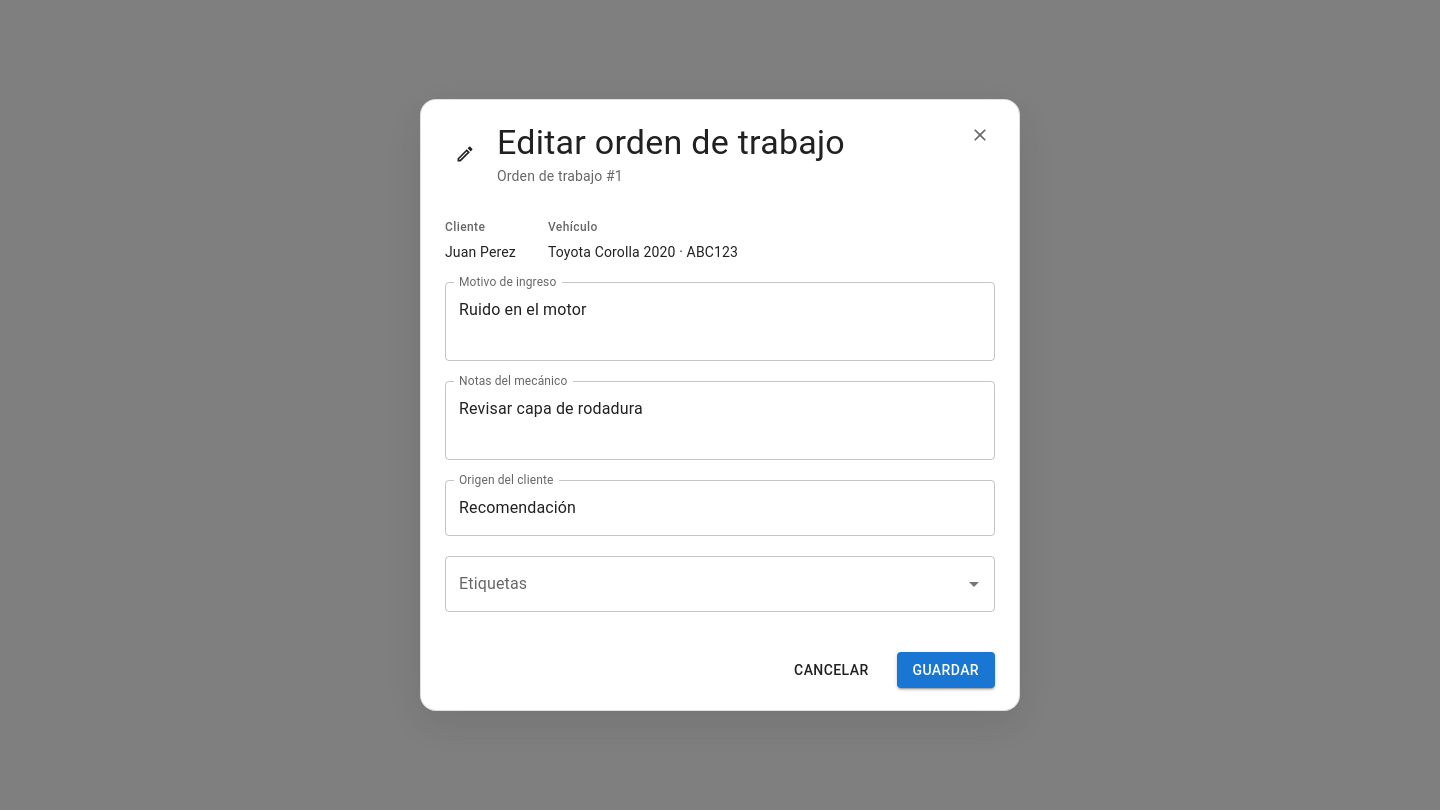
Scenario: EditRepairOrderDialog › given API error, when saved, then shows an error message and keeps the dialog open
What coordinates should you click on to do the following:
click the button "Guardar"
I would click on:
 (946, 670)
Its box is [896,652,995,688].
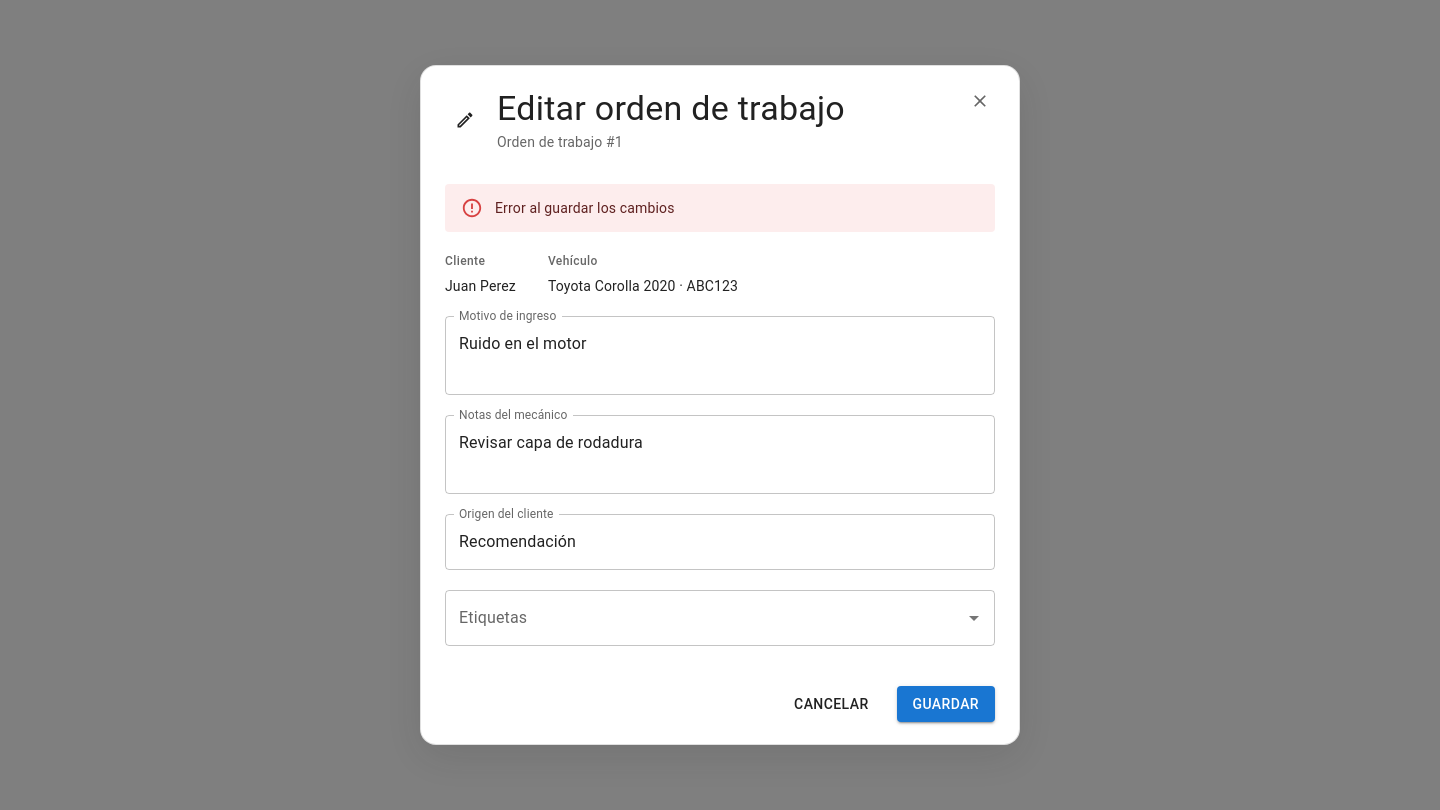
Expected: the text "Error al guardar los cambios" is shown, [495,200,674,216]
